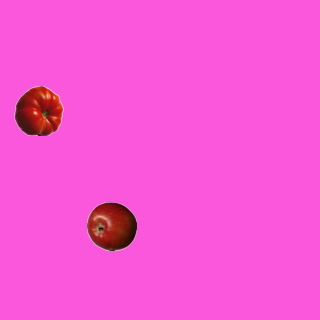Apple Braeburn: (86, 201, 136, 251)
Tomato 3: (13, 85, 63, 135)
